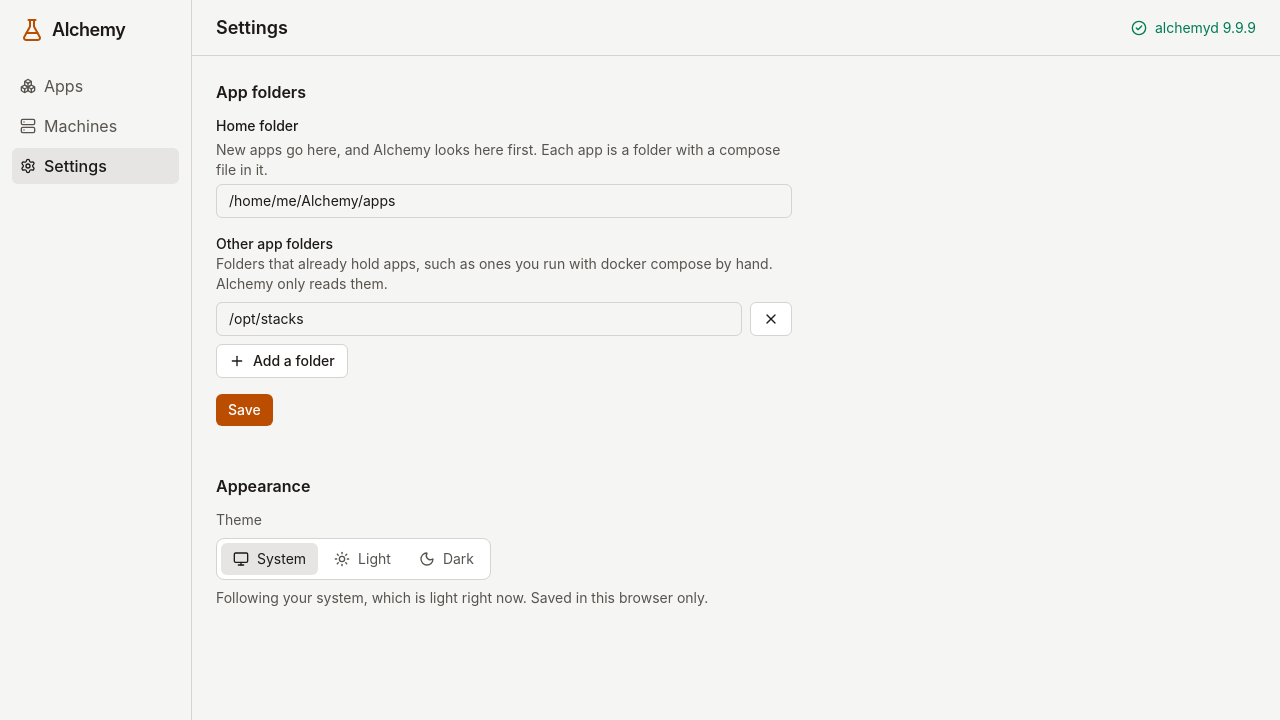
Test: app folders setting › shows why alchemyd refused the folders
The width and height of the screenshot is (1280, 720).
Expected: the navigation bar named "Main" is shown, 12,68 -> 179,184
Type "apps" into the field labelled "Home folder" at (504, 201), box 216,184 -> 792,218
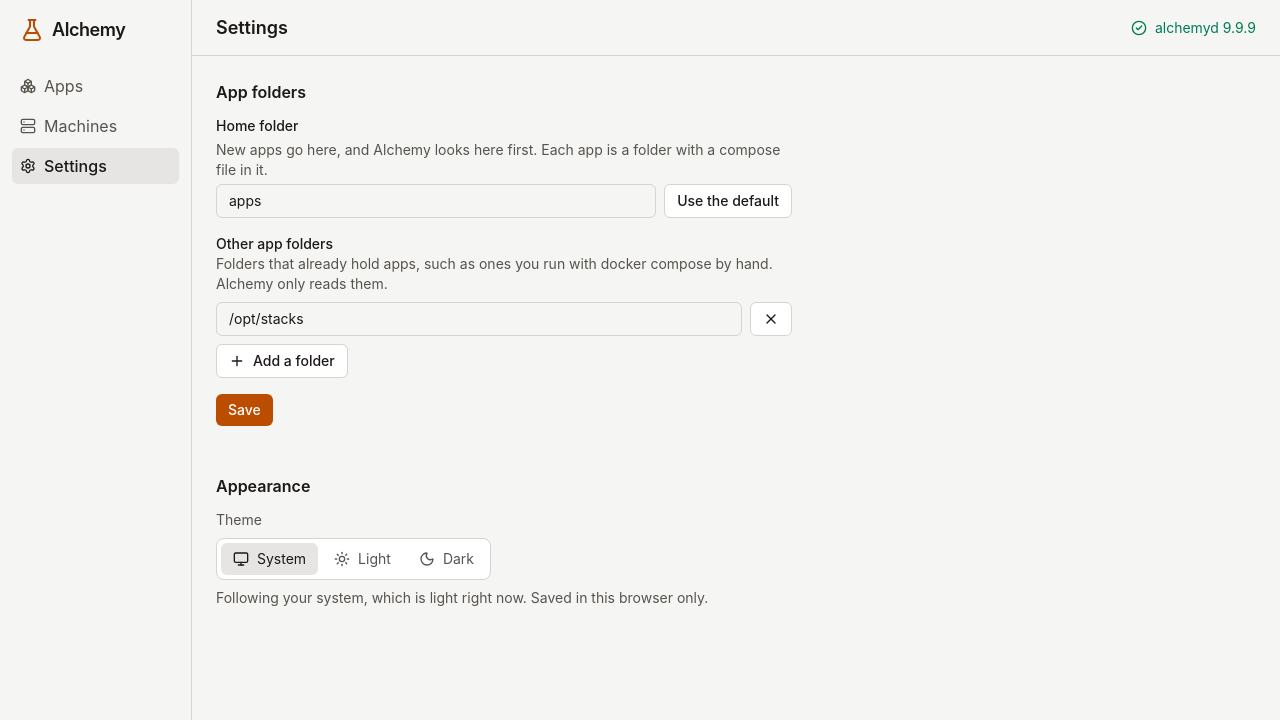
Click the button "Save" at (244, 410), box 216,394 -> 273,426
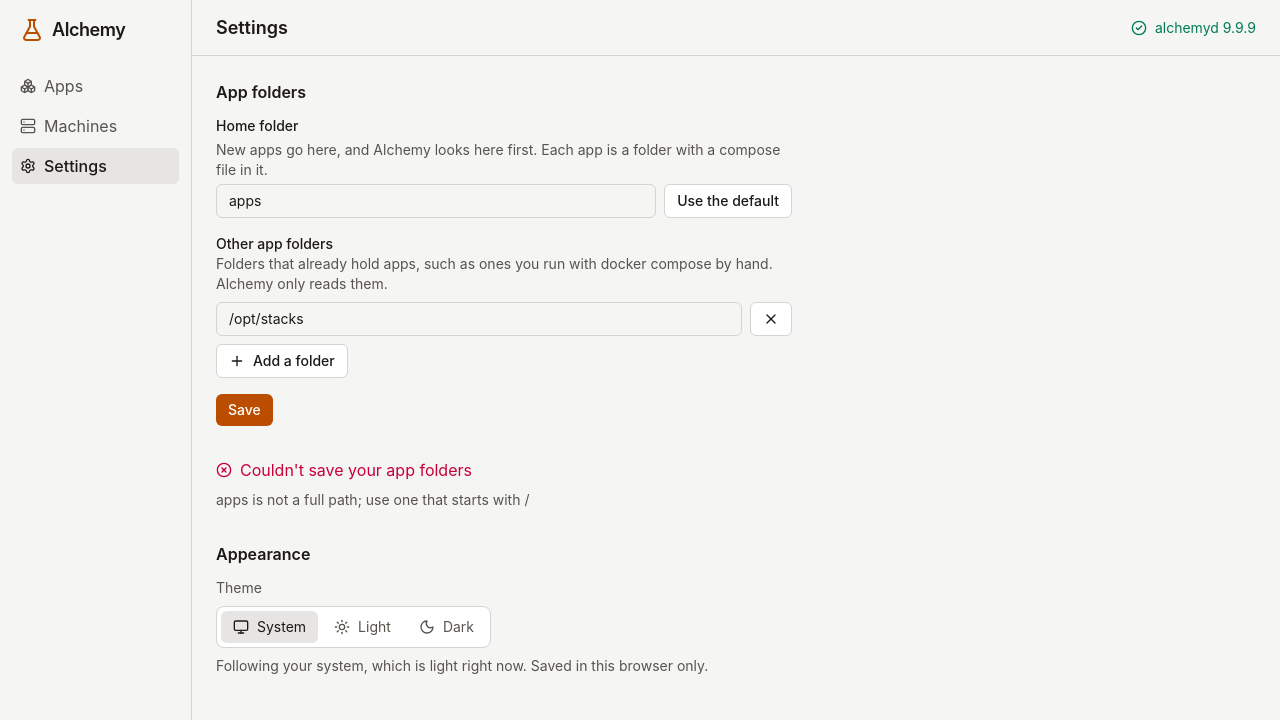
Expected: the text "Couldn't save your app folders" is shown, 216,460 -> 472,480
Expected: the text "apps is not a full path; use one that starts with /" is shown, 216,491 -> 529,508
